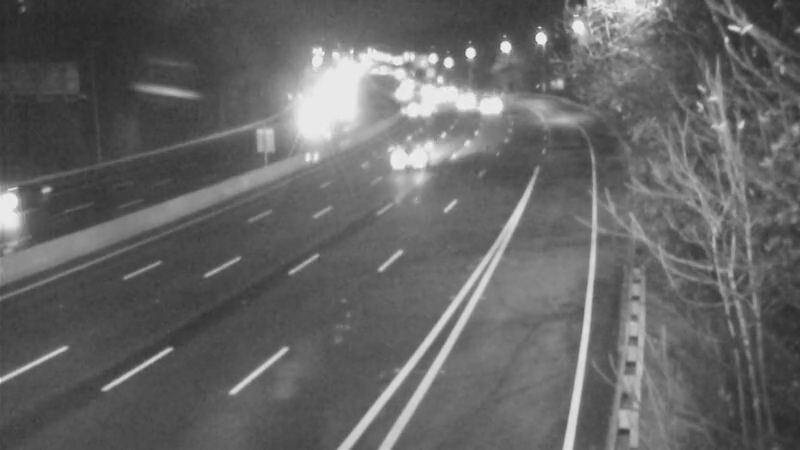vehicle: (365, 115, 445, 195), (1, 165, 74, 245), (439, 78, 489, 128), (462, 80, 512, 130), (386, 79, 436, 129)
